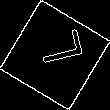L_W: (27, 34, 83, 76)
